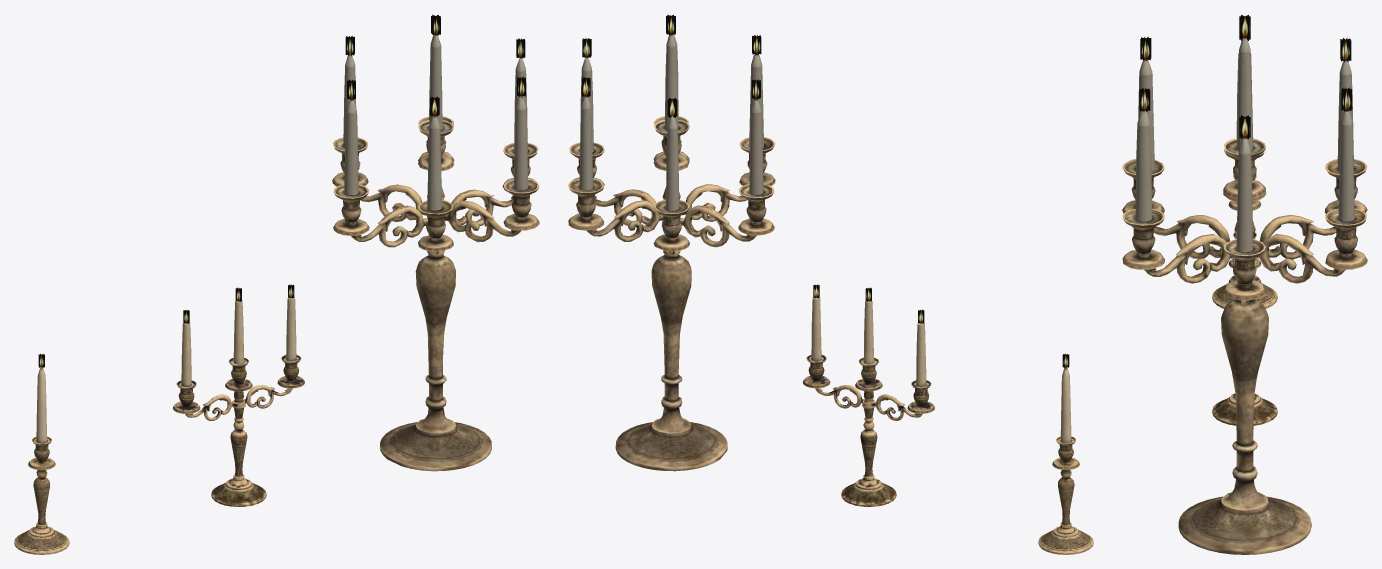
The model's file is brass_candleholders.glb.
3 renders of one model, left to right at view 1: azimuth 30°, elevation 25°; view 2: azimuth 150°, elevation 25°; view 3: azimuth 270°, elevation 25°, orthographic. The views are drawn at different scales.
Parts seen in each view (by area): view 1: brass_candleholder_03, brass_candleholder_02, brass_candleholder_01; view 2: brass_candleholder_03, brass_candleholder_02, brass_candleholder_01; view 3: brass_candleholder_03, brass_candleholder_02, brass_candleholder_01.
Boxes of the visible parts, x1,y1,x2,y2 form: brass_candleholder_03: (38, 14, 539, 471); brass_candleholder_02: (173, 296, 304, 506); brass_candleholder_01: (14, 367, 69, 554); brass_candleholder_03: (568, 14, 1069, 471); brass_candleholder_02: (802, 296, 934, 506); brass_candleholder_01: (1038, 367, 1093, 554); brass_candleholder_03: (1122, 15, 1367, 554); brass_candleholder_02: (1212, 232, 1277, 425); brass_candleholder_01: (1212, 174, 1277, 308).
Size of the model in its own units: 1.05 by 0.8353 by 0.3645.
Materials: 5 (5 with a texture image).
